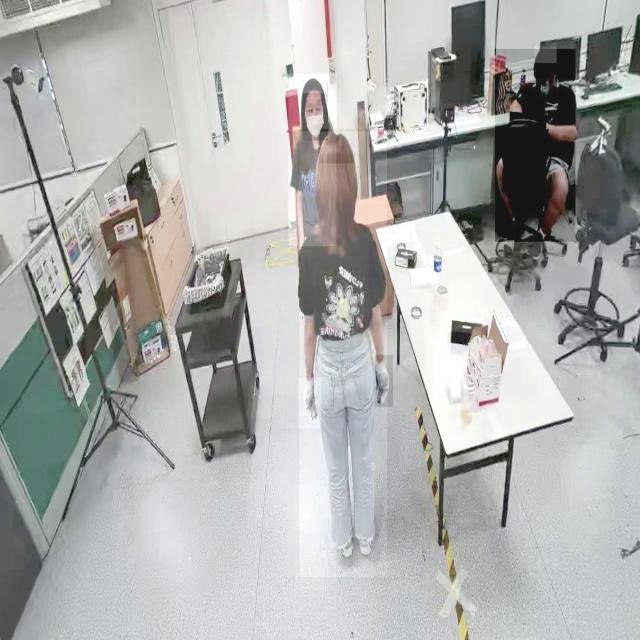face_mask: (303, 82, 328, 140), (534, 64, 557, 107)
hand_glove: (297, 378, 321, 429), (374, 355, 393, 408)
head_nohelmet: (317, 129, 355, 164), (303, 76, 327, 94), (534, 46, 556, 64)
person: (299, 132, 387, 578), (494, 49, 576, 243), (288, 74, 336, 246)
shoes: (529, 219, 553, 264), (358, 504, 377, 557), (336, 519, 356, 562)
